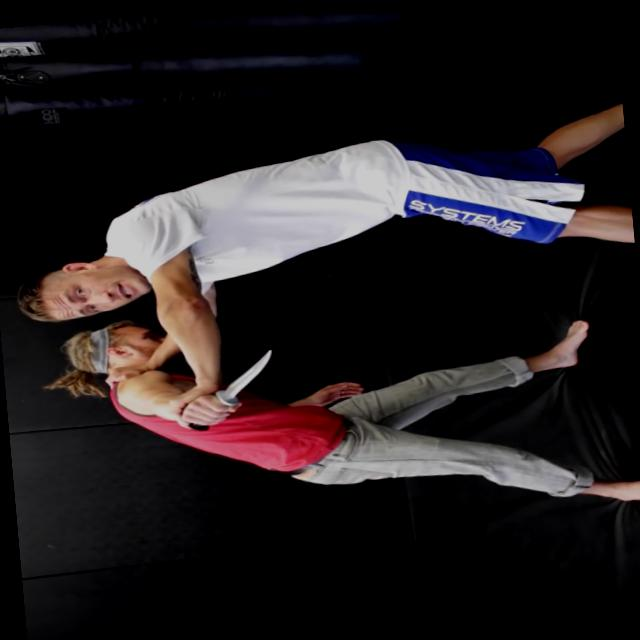knife: (178, 344, 288, 434)
